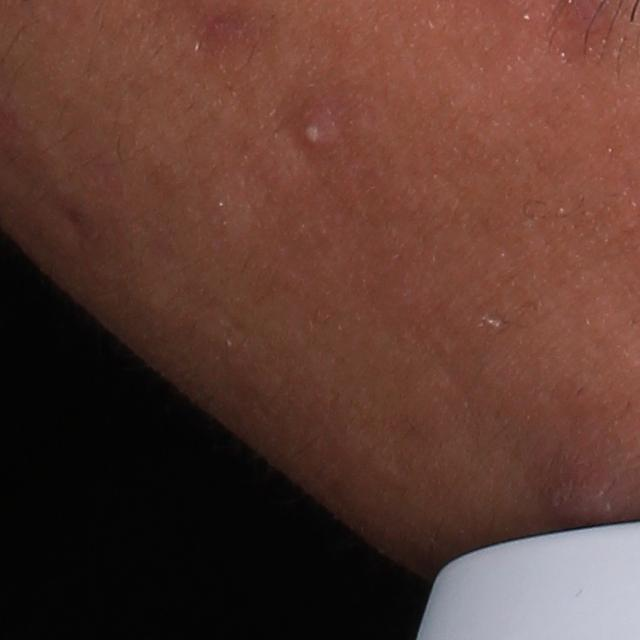pustule: (297, 118, 341, 157)
